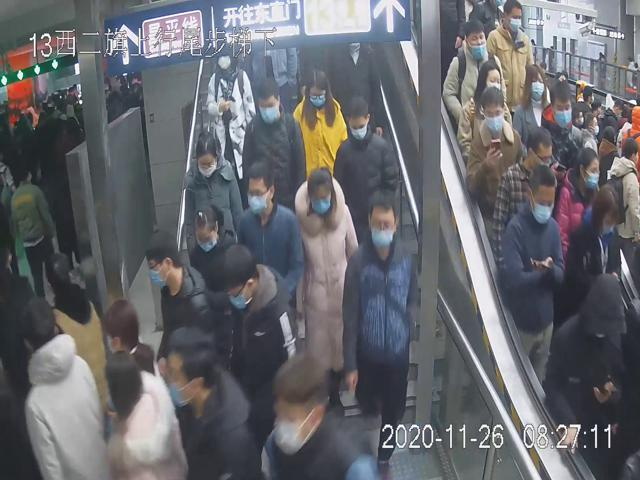person: (340, 186, 422, 480), (292, 165, 362, 423), (215, 237, 298, 433), (497, 160, 564, 393), (236, 158, 303, 308), (331, 92, 401, 235), (140, 226, 215, 354), (240, 75, 308, 214), (181, 127, 243, 254), (292, 64, 350, 198), (464, 88, 522, 211), (188, 198, 242, 324)
